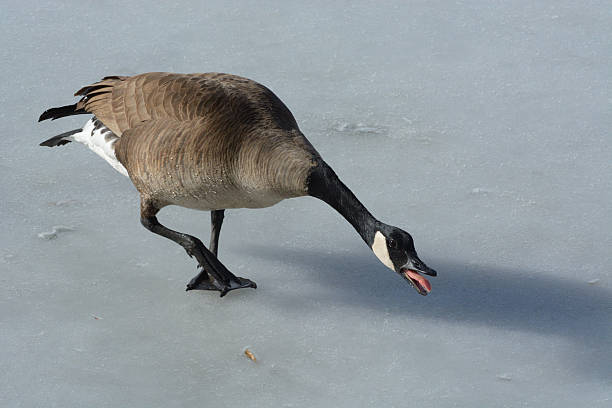goose: (33, 71, 439, 305)
